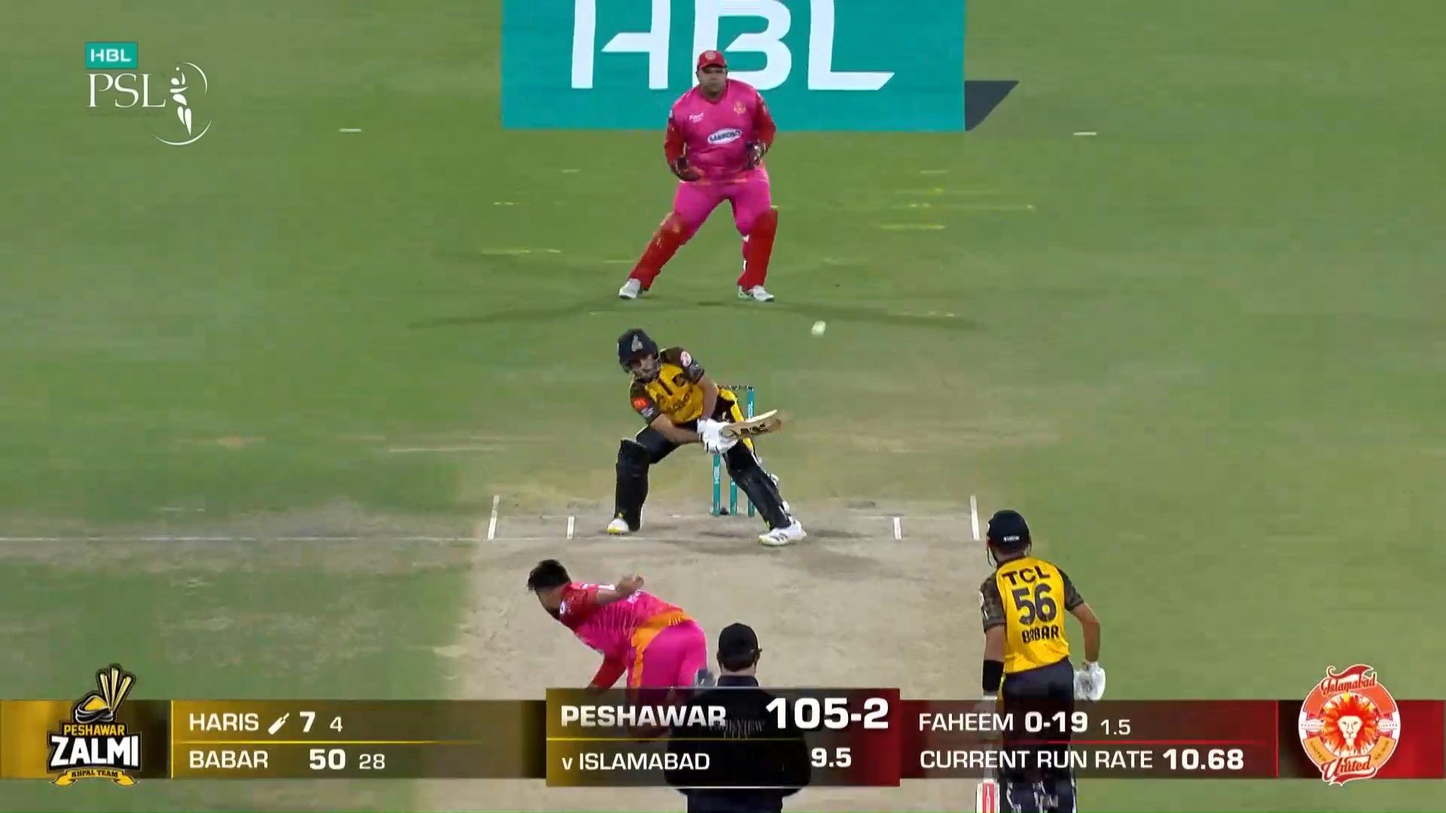batsman: (607, 326, 808, 548)
